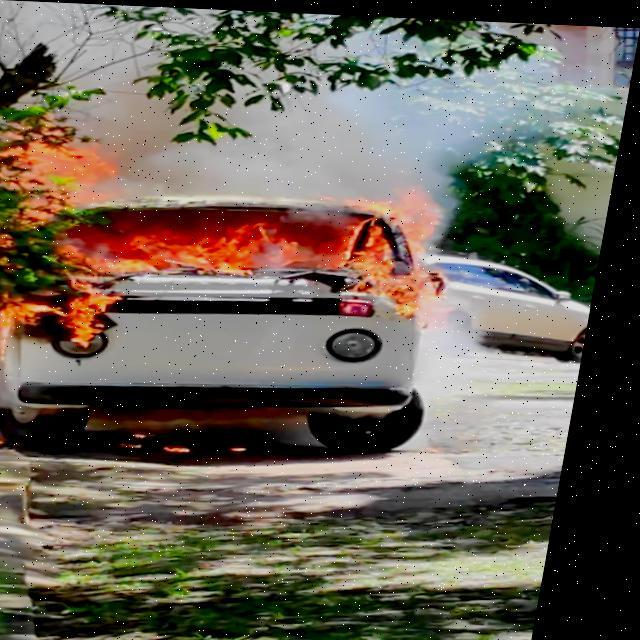Fire: (59, 169, 456, 313), (0, 120, 129, 211), (0, 280, 128, 350), (175, 444, 208, 450), (0, 437, 21, 446)
